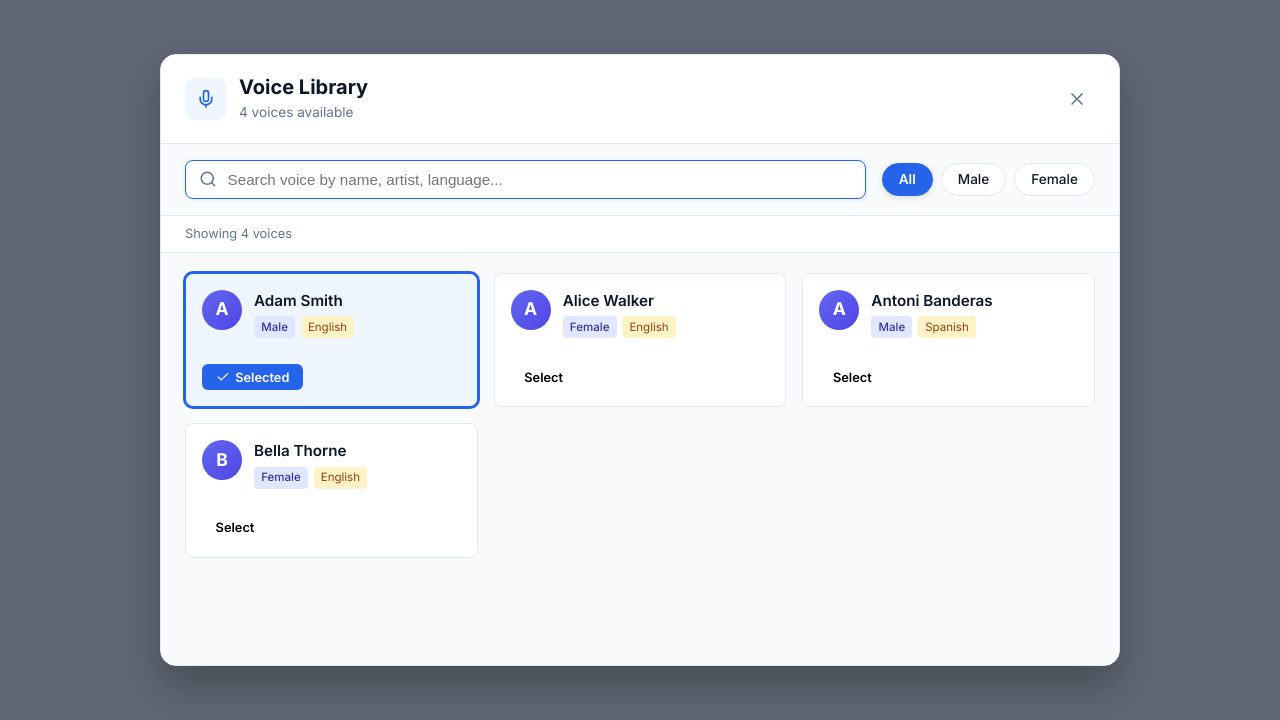
it: VoiceLibraryModal Component › filters voices when clicking gender filter chips (Male / Female / All)
The width and height of the screenshot is (1280, 720).
Click Female chip
Click the button "Female". click: (1055, 180)
box: [1014,163,1095,196]
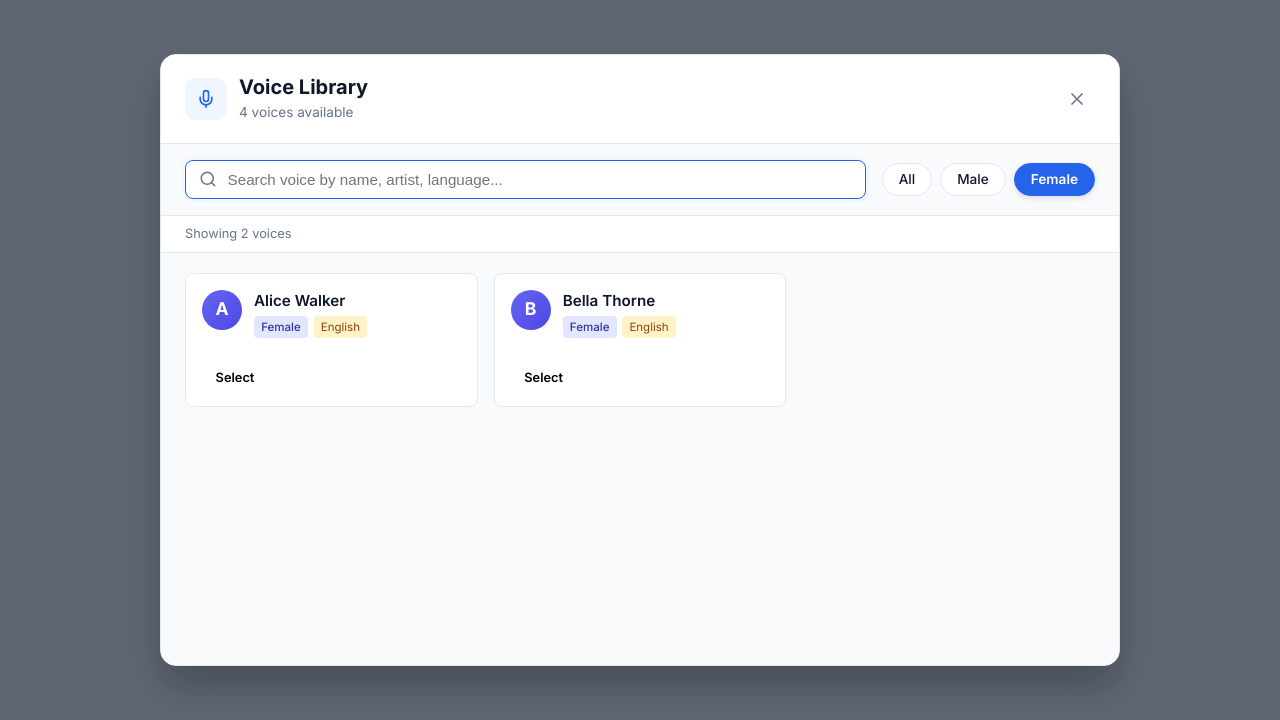
expect the heading "Alice Walker" is shown: met, box [254,290,345,310]
expect the heading "Adam Smith" is gone: met
expect the heading "Antoni Banderas" is gone: met
Click All chip to reset
Click the button "All". click: (907, 180)
box: [882,163,932,196]
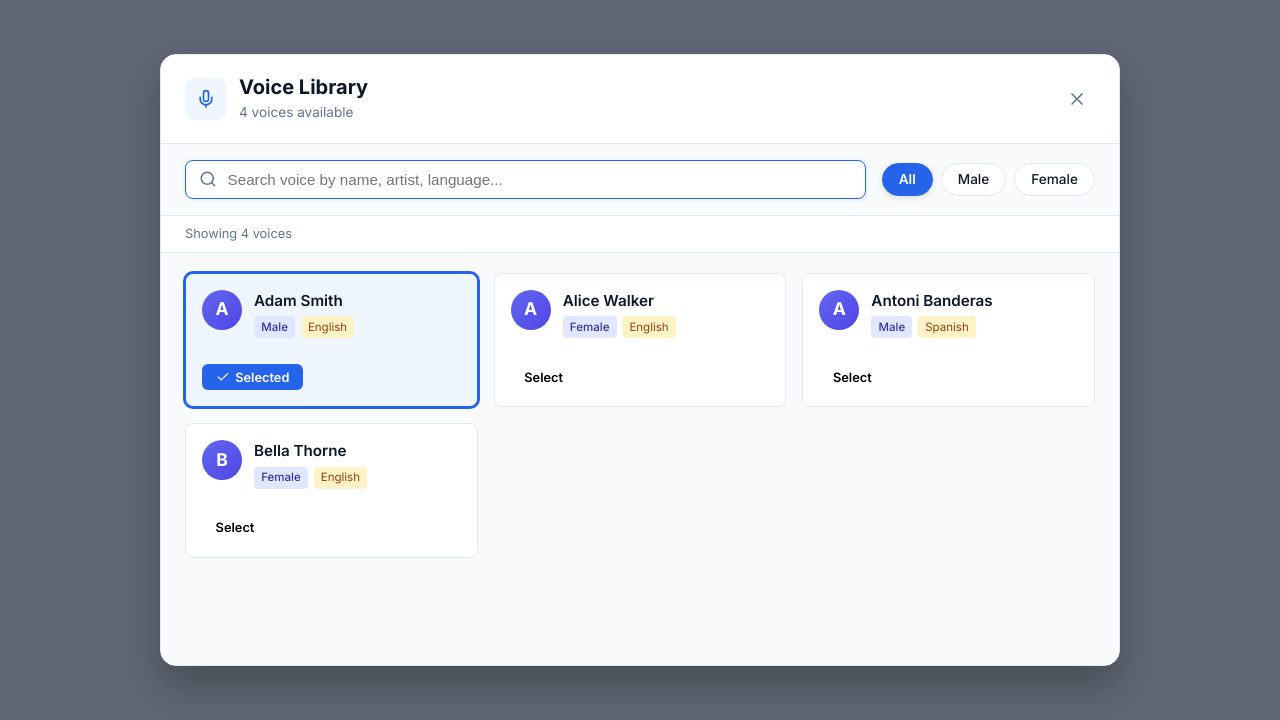
expect the heading "Adam Smith" is shown: met, box [254,290,343,310]
